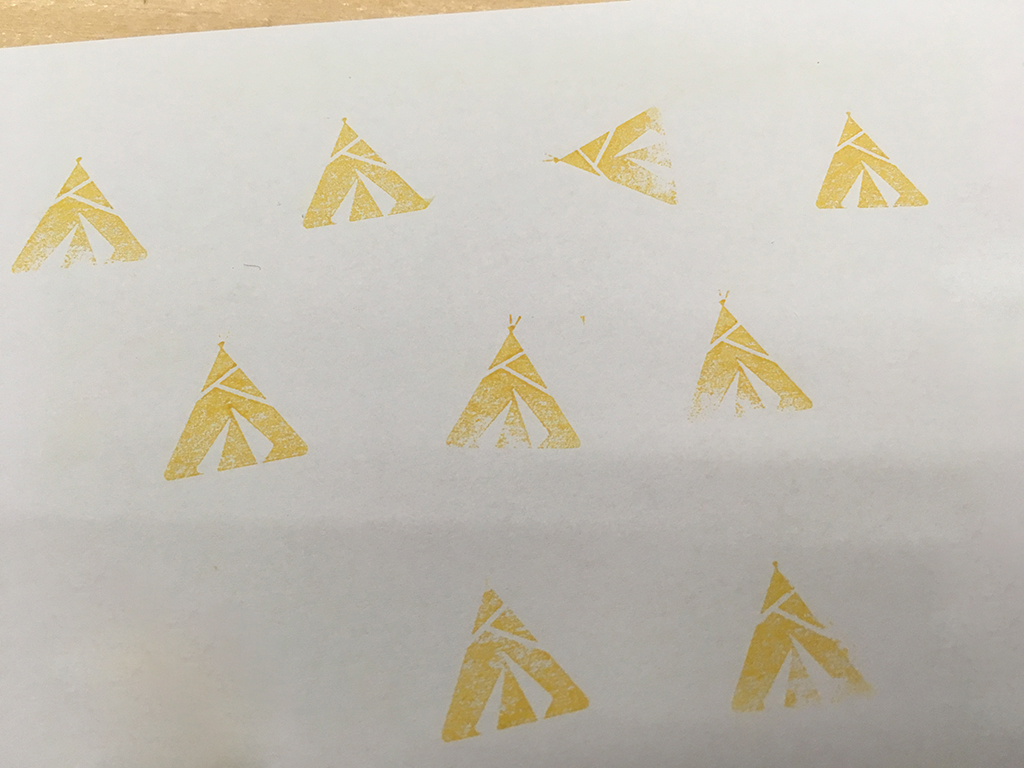tent: (430, 569, 597, 749), (726, 549, 882, 719), (149, 329, 317, 483), (443, 305, 588, 460), (1, 143, 158, 280), (680, 285, 817, 436), (534, 97, 698, 213), (288, 109, 438, 229), (812, 99, 933, 213)
